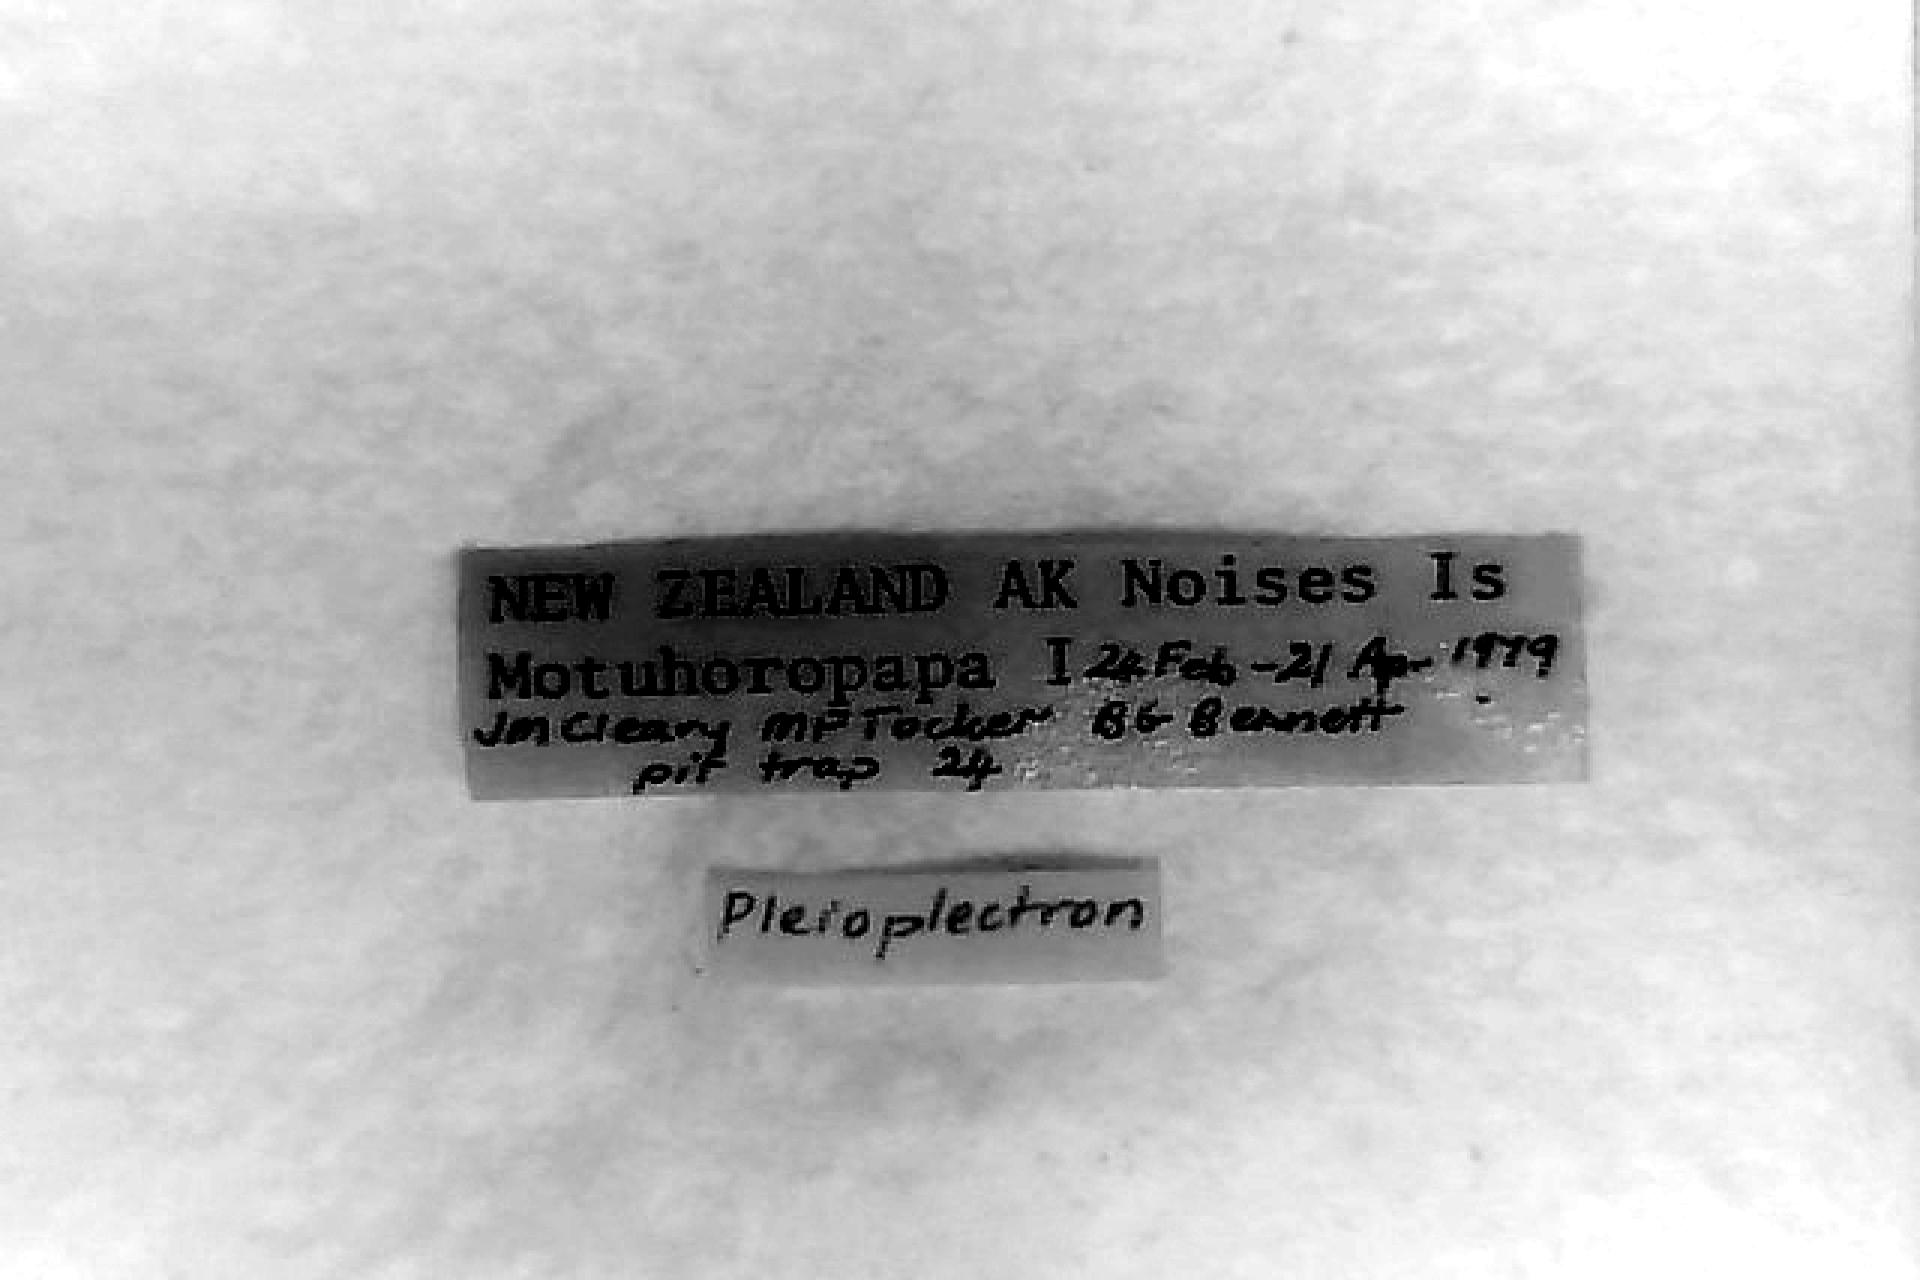hand_label: (709, 860, 1163, 986)
mixed_label: (457, 537, 1586, 799)
